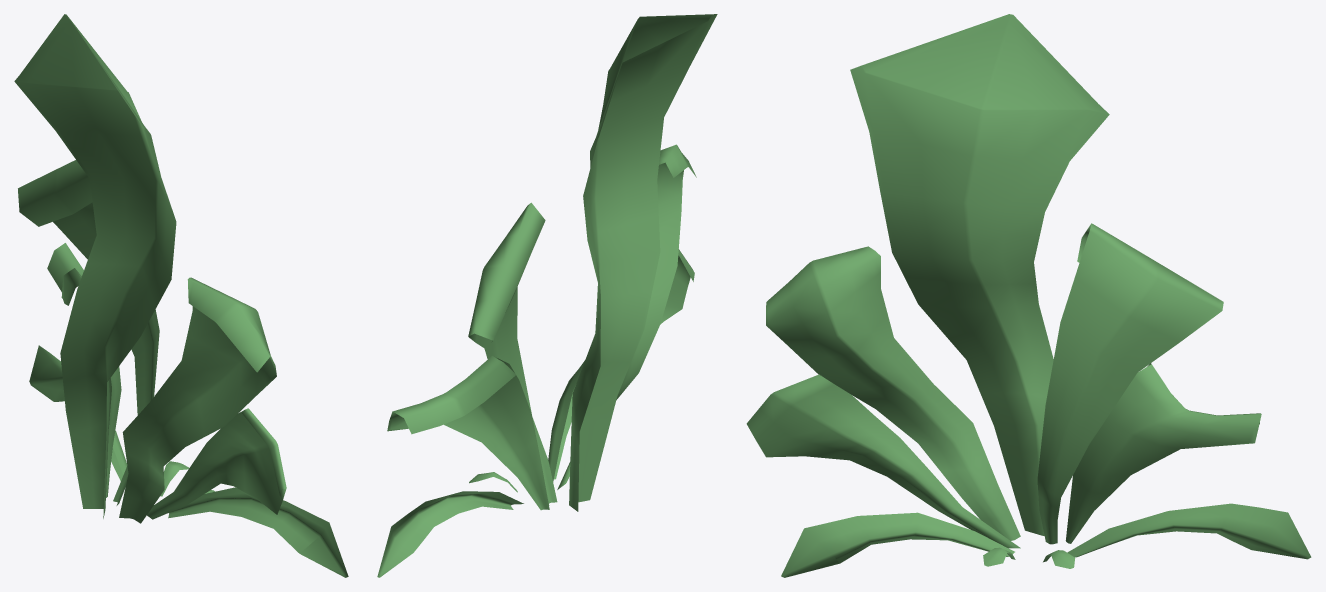
Rendered from arbuste1.fbx.
The picture shows the model from 3 angles, left to right: view 1: azimuth 30°, elevation 25°; view 2: azimuth 150°, elevation 25°; view 3: azimuth 270°, elevation 25°; orthographic projection. The views are drawn at different scales.
Parts seen in each view (by area): view 1: Plane.001; view 2: Plane.001; view 3: Plane.001.
Part boxes in pixels (bbox=[...]): Plane.001: bbox=[14, 14, 348, 577]; Plane.001: bbox=[377, 14, 717, 577]; Plane.001: bbox=[746, 14, 1311, 577].
Size of the model in its own units: 60.41 by 187 by 193.
